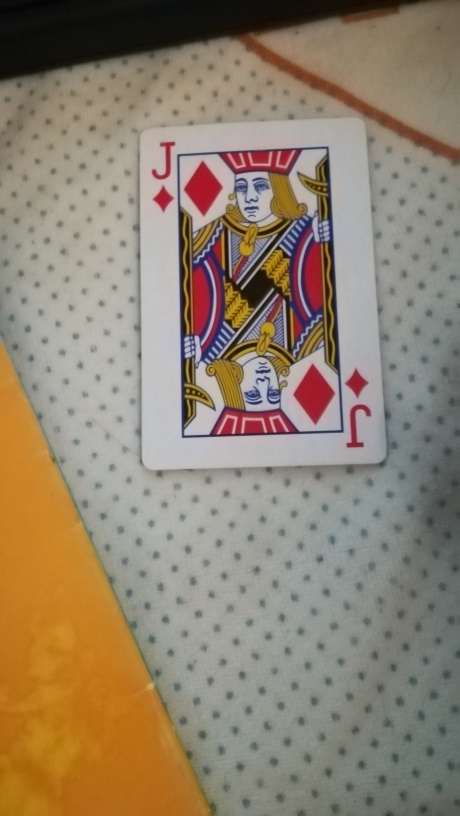fk j: (141, 123, 387, 467)
